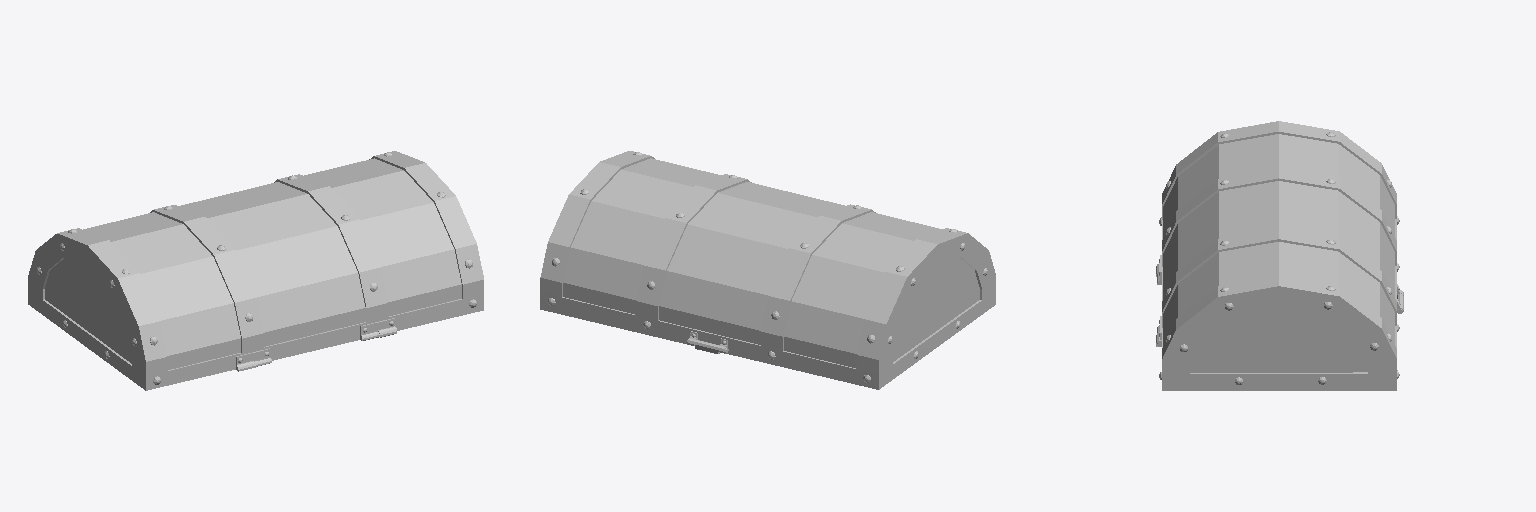
Rendered from chest1.obj.
The picture shows the model from 3 angles: view 1: azimuth 30°, elevation 25°; view 2: azimuth 150°, elevation 25°; view 3: azimuth 270°, elevation 25°; orthographic projection.
Parts seen in each view (by area): view 1: chest1.001; view 2: chest1.001; view 3: chest1.001.
Boxes of the visible parts, x1,y1,x2,y2 form: chest1.001: [28, 151, 483, 390]; chest1.001: [540, 151, 995, 389]; chest1.001: [1156, 121, 1403, 390].
Size of the model in its own units: 1.78 by 0.5212 by 1.11.